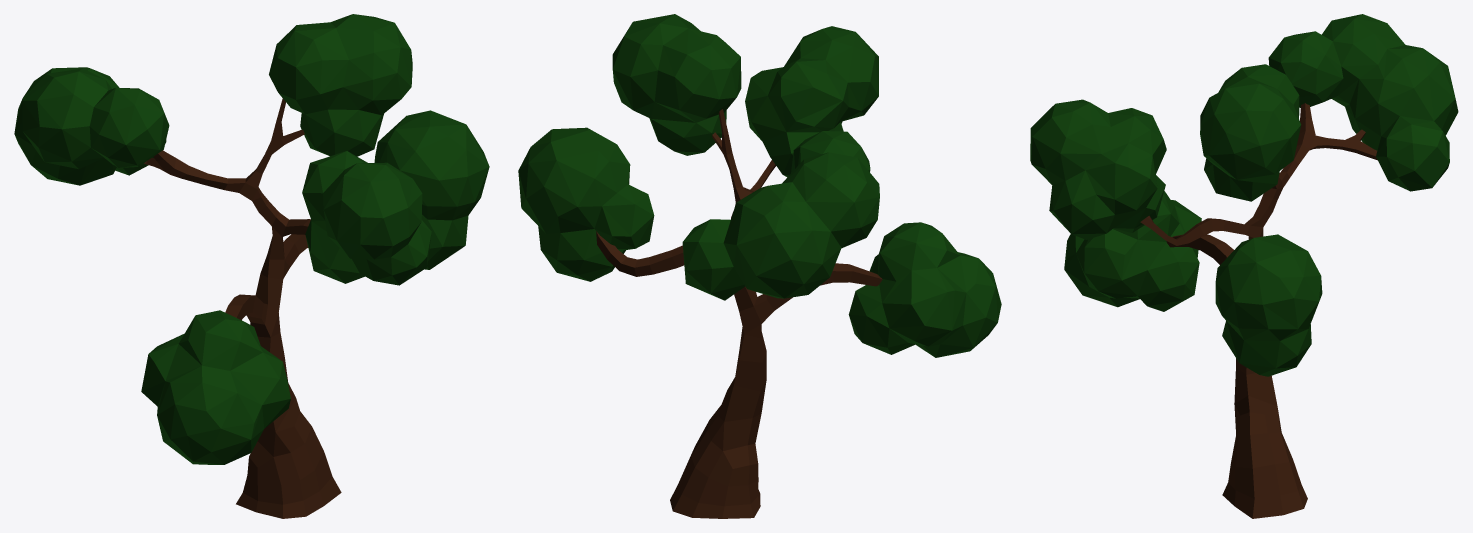
Rendered from Tree4.FBX.
The picture shows the model from 3 angles, left to right: view 1: azimuth 30°, elevation 25°; view 2: azimuth 150°, elevation 25°; view 3: azimuth 270°, elevation 25°; orthographic projection. The views are drawn at different scales.
Parts seen in each view (by area): view 1: LowPoly_Tree_04_lowpoly_tree_05_Mesh_001; view 2: LowPoly_Tree_04_lowpoly_tree_05_Mesh_001; view 3: LowPoly_Tree_04_lowpoly_tree_05_Mesh_001.
Boxes of the visible parts, x1,y1,x2,y2 form: LowPoly_Tree_04_lowpoly_tree_05_Mesh_001: [14, 14, 489, 518]; LowPoly_Tree_04_lowpoly_tree_05_Mesh_001: [518, 14, 1001, 518]; LowPoly_Tree_04_lowpoly_tree_05_Mesh_001: [1030, 14, 1458, 518].
Bounding box in the file's own units: 3.63 × 4.08 × 3.58.
